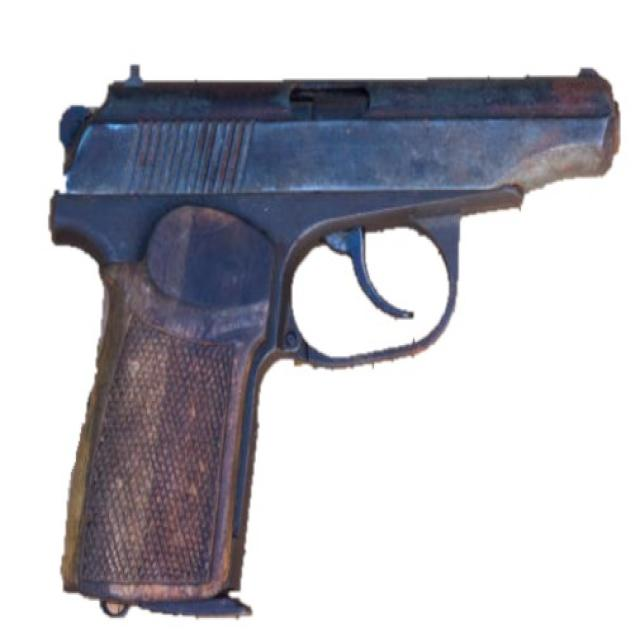pistol: (36, 58, 629, 629)
